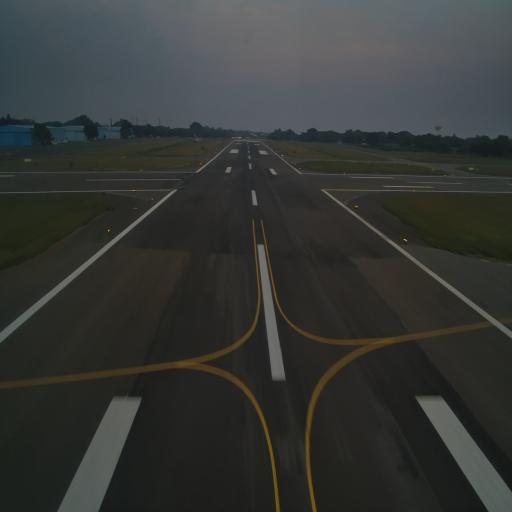on: (401, 234, 409, 244), (106, 226, 112, 234), (354, 202, 358, 211), (150, 196, 153, 202)
